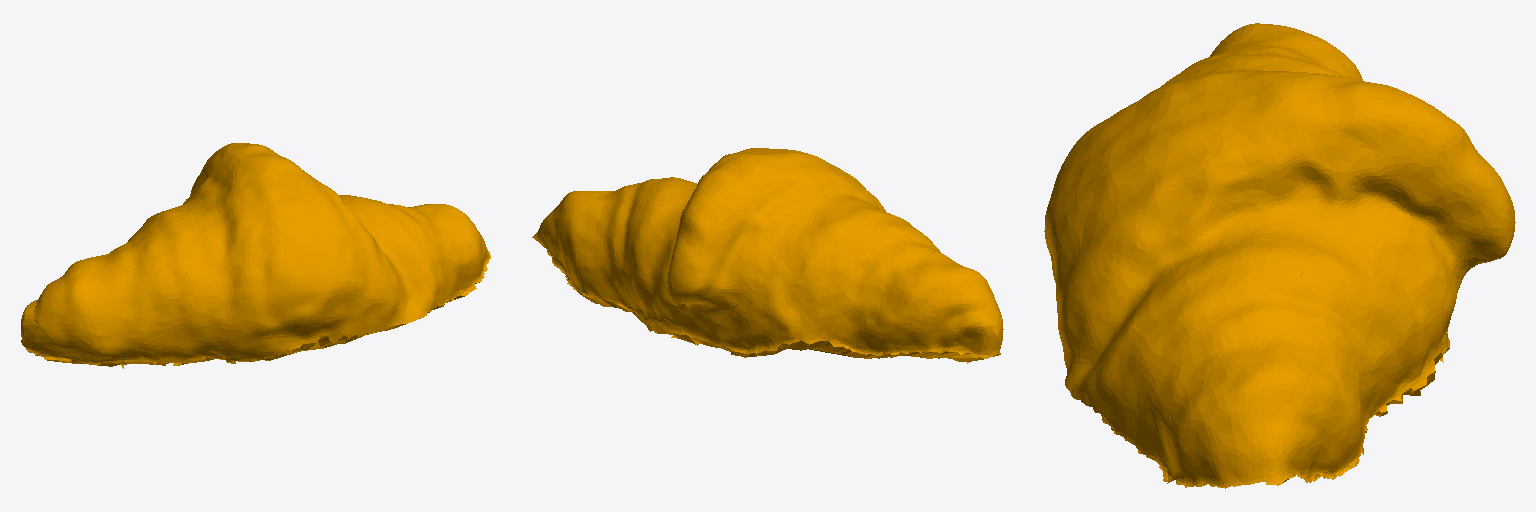
The robot description file, URDF, robot "mesh_object":
<robot name="mesh_object">
            <link name="base">
                <visual>
                    <geometry>
                        <mesh filename="crescent_roll_0.obj" scale="1 1 1" />
                    </geometry>
                </visual>
                <collision>
                    <geometry>
                        <mesh filename="crescent_roll_0.obj" scale="1 1 1" />
                    </geometry>
                </collision>
                <inertial>
                    <origin xyz="0.000000 0.000000 0.032441" rpy="0 0 0" />
                    <mass value="0.5" />
                    <inertia ixx="0.01" iyy="0.01" izz="0.01" ixy="0" ixz="0" iyz="0" />
                </inertial>
            </link>
            </robot>

--- What the picture shows (computed from the rendered views, not written in the file) ---
Views: 3 orthographic renders of the robot side by side, from view 1: azimuth 30°, elevation 25°; view 2: azimuth 150°, elevation 25°; view 3: azimuth 270°, elevation 25°.
Robot: mesh_object — 1 links, 0 joints (none); root link base; default pose: every joint at zero.
Links seen in each view (by area): view 1: base; view 2: base; view 3: base.
Boxes of the visible links, left/top/right/bottom form: base: left=21, top=143, right=490, bottom=368; base: left=532, top=148, right=1003, bottom=363; base: left=1044, top=23, right=1515, bottom=488.
Size in the robot's own frame: 0.1958 by 0.101 by 0.0649 metres.
Meshes: 1 distinct files referenced, 1 mesh visuals loaded (1 OBJ).
